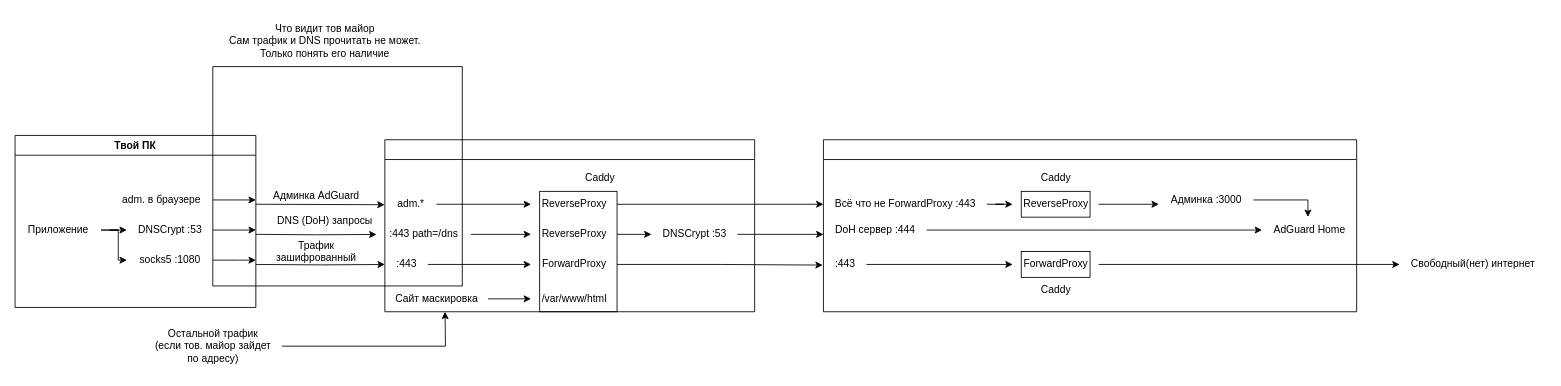
This 1561x386 diagram has some shape labels left out. The shapes that lost their labels are listed below. From the top down, each one's box as (x1, y1, x2, y2) in pixels, then its label:
(384, 139, 755, 312): Входной хост
(823, 139, 1357, 312): Выходной хост
